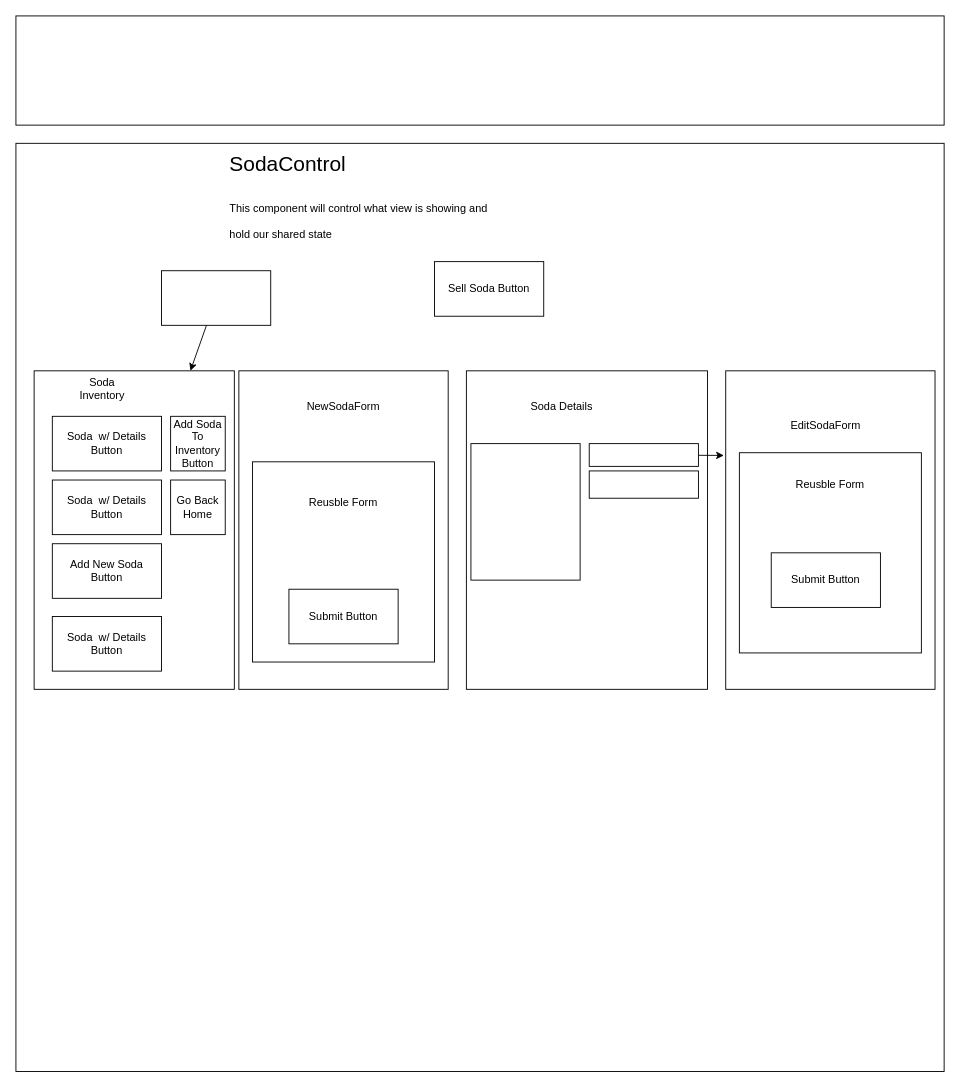
Image size: 960x1087. Some labels were removed from this diagram. Here are the shapes that lost their labels. From the top down, the centre of each, then its label:
point (479, 70): Header
point (216, 297): Manage Soda Button
point (643, 454): Edit Button
point (643, 484): Delete Button
point (525, 511): Soda component w/ name, slogan, sugar type, quantity and price properties
